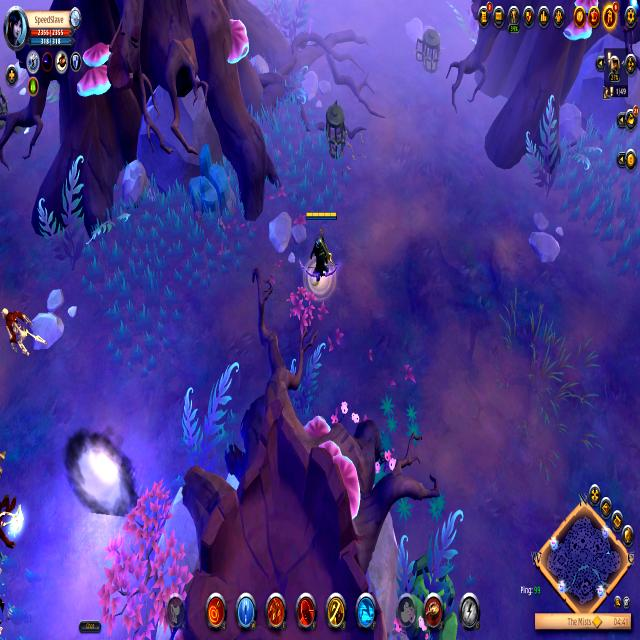ore: (0, 293, 49, 364), (0, 447, 26, 558)
red: (301, 206, 341, 295)
